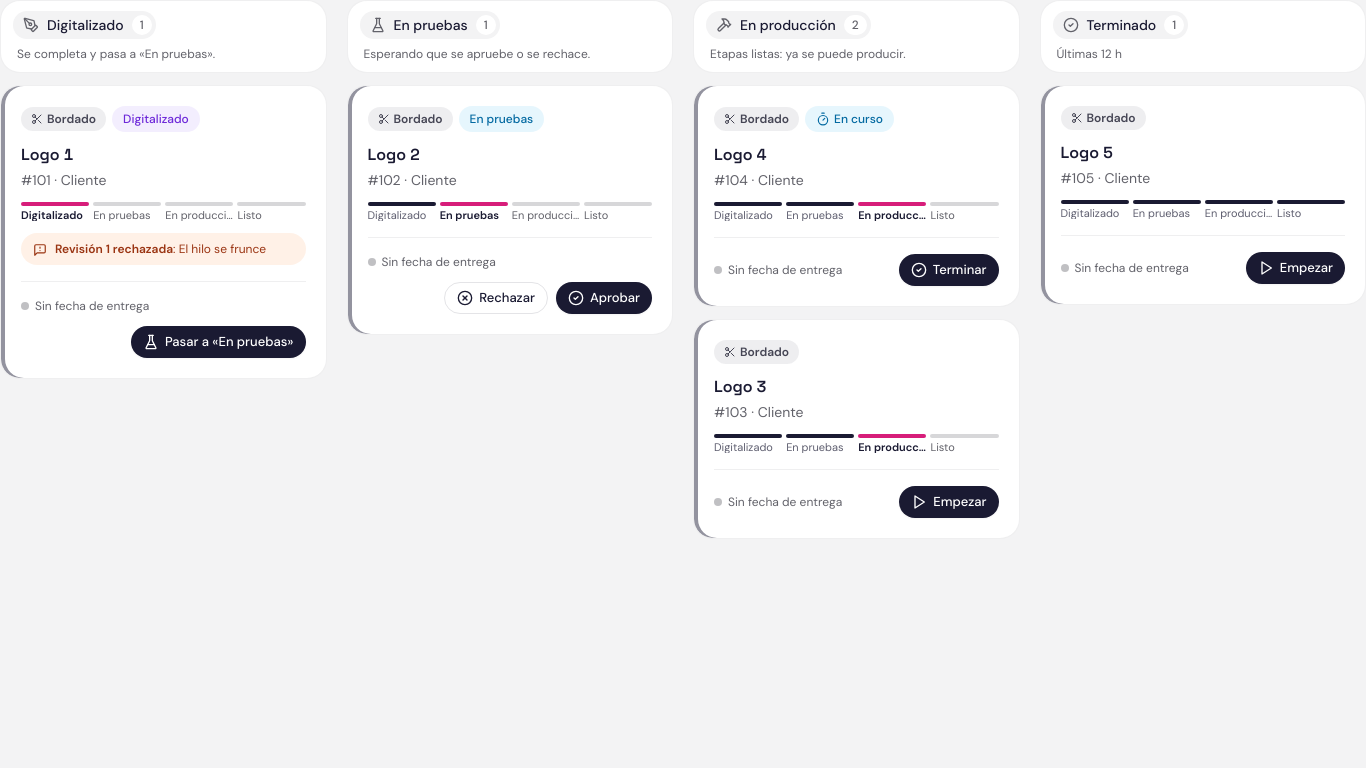
it: tablero por etapas (Tareas asignadas) › Mandar a pruebas abre el diálogo con la foto opcional
This screenshot has width=1366, height=768.
Click the button "Pasar a «En pruebas»" at {"x": 218, "y": 342}, box [131,326,306,358]
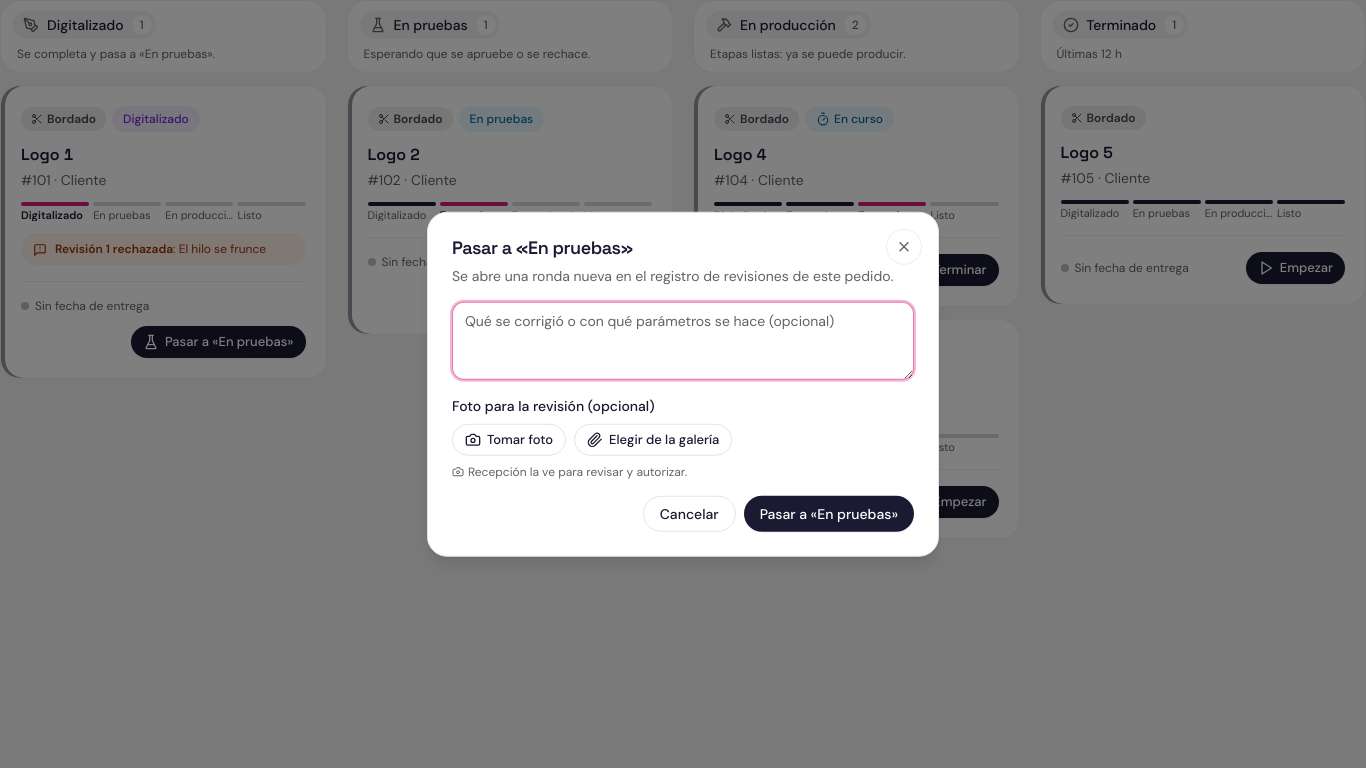
Expected: the heading "Pasar a «En pruebas»" is shown, [452,236,633,259]
Expected: the text "Foto para la revisión (opcional)" is shown, [452,396,655,414]
